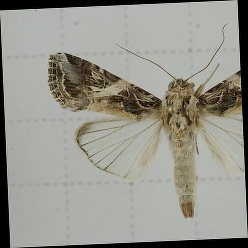Spodoptera litura: (49, 26, 243, 221)
